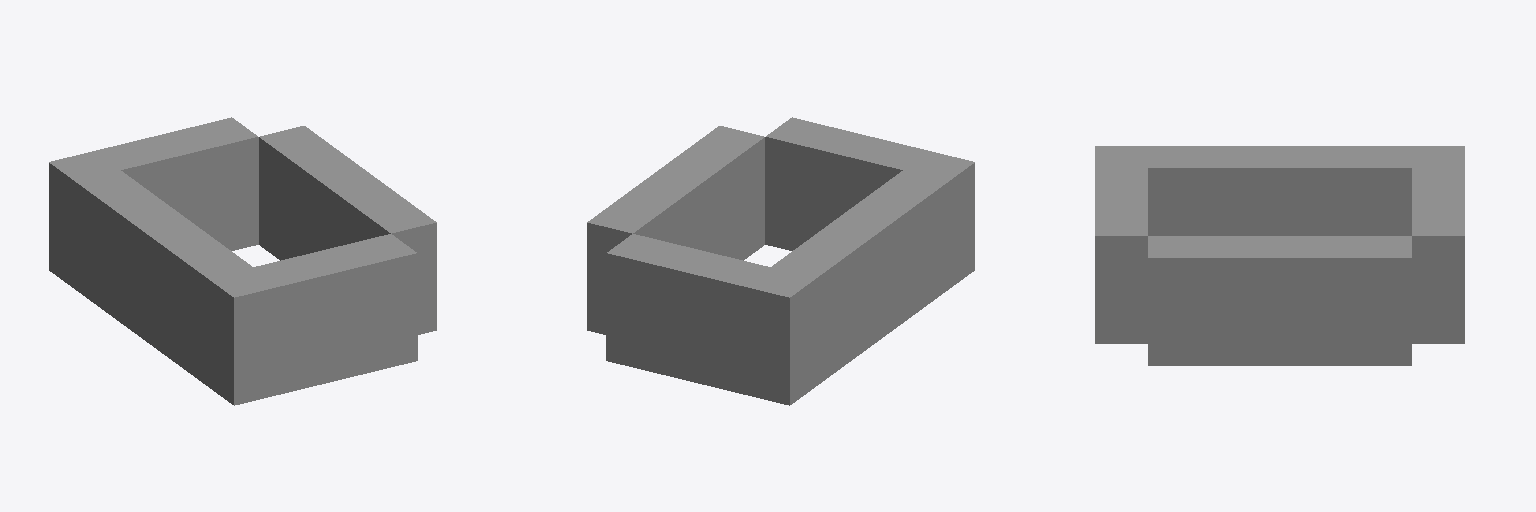
3 views of the same model, side by side, from view 1: azimuth 30°, elevation 25°; view 2: azimuth 150°, elevation 25°; view 3: azimuth 270°, elevation 25° (orthographic).
Visible parts, largest first — view 1: D_CUABC.004; view 2: D_CUABC.004; view 3: D_CUABC.004.
Boxes of the visible parts, box(x1,y1,x2,y2) form: D_CUABC.004: box(49, 117, 436, 405); D_CUABC.004: box(587, 117, 974, 405); D_CUABC.004: box(1095, 146, 1464, 365).
Bounding box in the file's own units: 0.5556 × 0.25 × 0.7778.